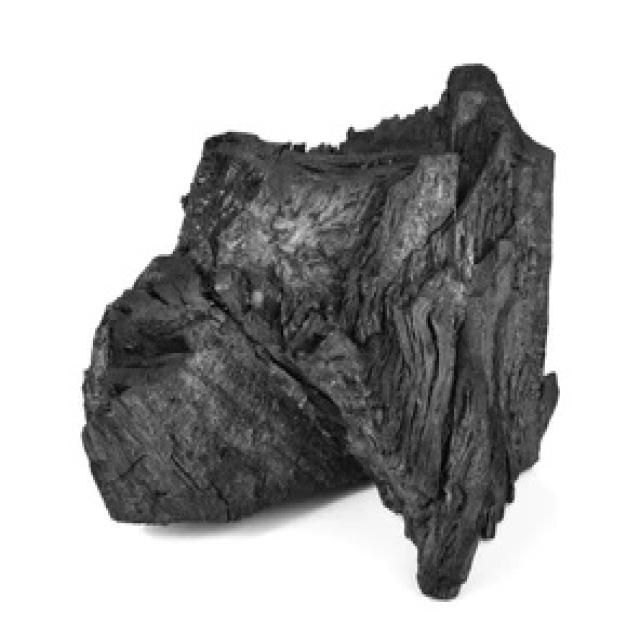Sedimentary: (86, 63, 566, 604)
